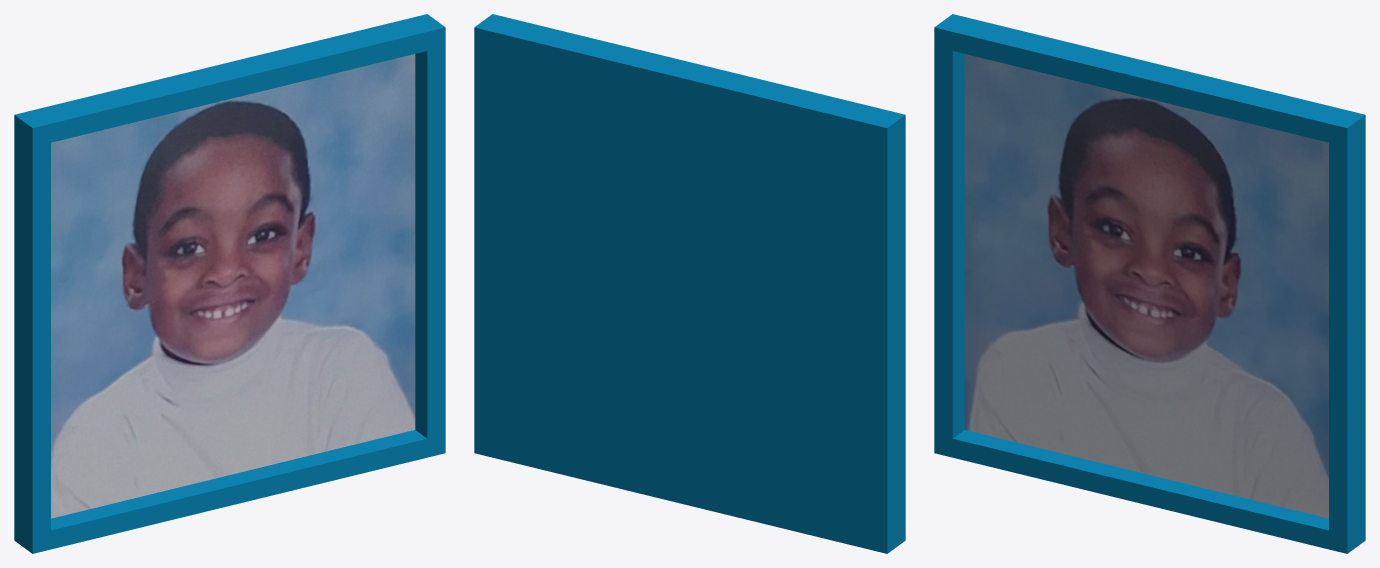
Rendered from Bocal Picture 01.fbx.
The picture shows the model from 3 angles, left to right: view 1: azimuth 30°, elevation 25°; view 2: azimuth 150°, elevation 25°; view 3: azimuth 330°, elevation 25°; orthographic projection.
Visible parts, largest first — view 1: Bocal Picture 01.001; view 2: Bocal Picture 01.001; view 3: Bocal Picture 01.001.
Part boxes in pixels (x1=…): Bocal Picture 01.001: x1=14, y1=14, x2=445, y2=553; Bocal Picture 01.001: x1=474, y1=14, x2=905, y2=553; Bocal Picture 01.001: x1=934, y1=14, x2=1365, y2=553.
Bounding box in the file's own units: 0.429 × 0.4225 × 0.033.
